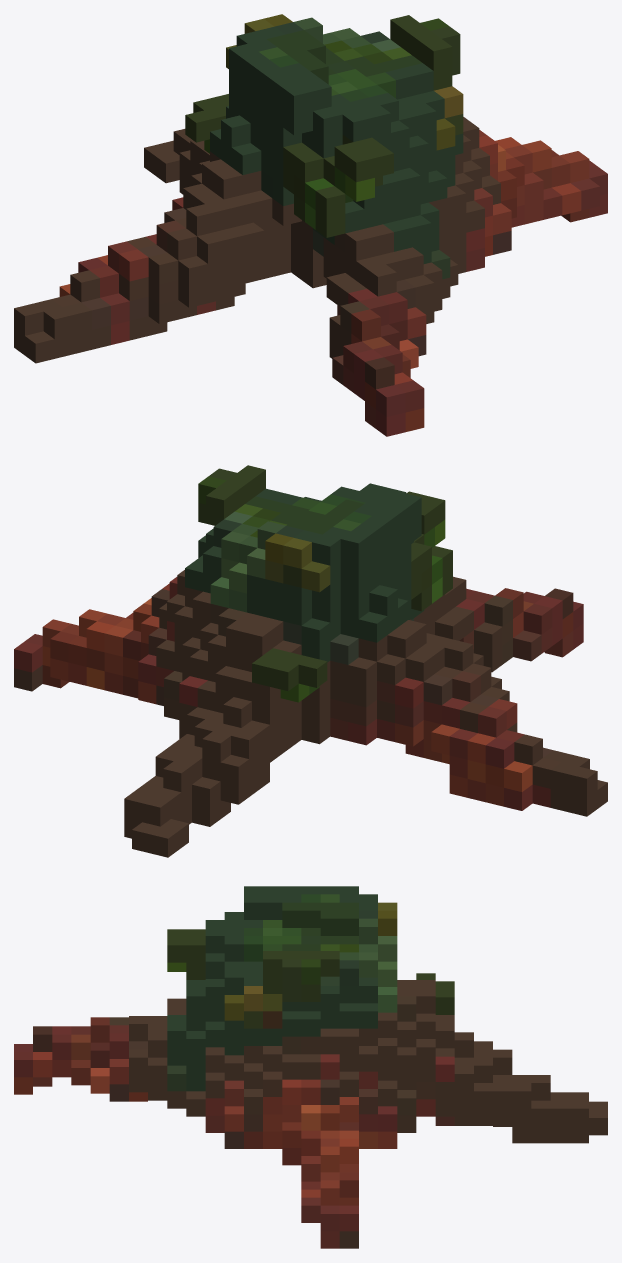
File: tree 6.obj
The picture shows the model from 3 angles, top to bottom: view 1: azimuth 30°, elevation 25°; view 2: azimuth 150°, elevation 25°; view 3: azimuth 270°, elevation 25°; orthographic projection. The views are drawn at different scales.
Bounding box in the file's own units: 3.1 × 1.2 × 3.1.
Materials: 1 (1 with a texture image).
